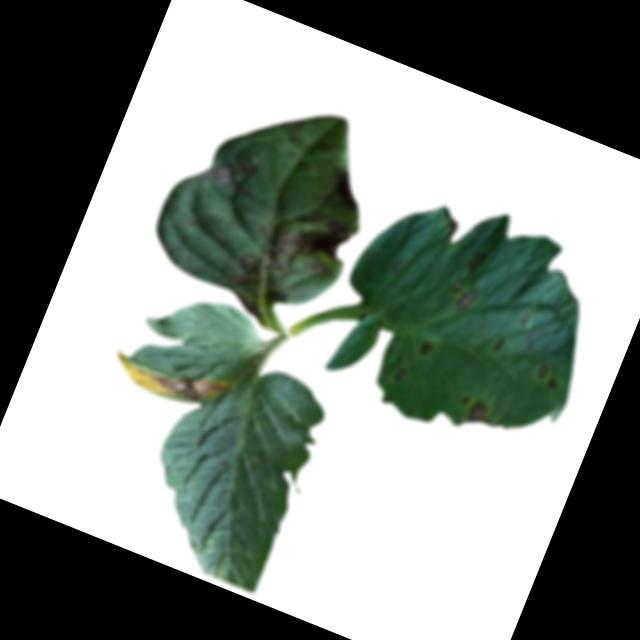Early_blight: (225, 189, 356, 320), (104, 338, 233, 421), (195, 142, 264, 201), (319, 165, 368, 212), (442, 275, 482, 318), (461, 396, 494, 433), (530, 362, 562, 393), (462, 245, 490, 280), (415, 338, 434, 362), (391, 365, 410, 385)
